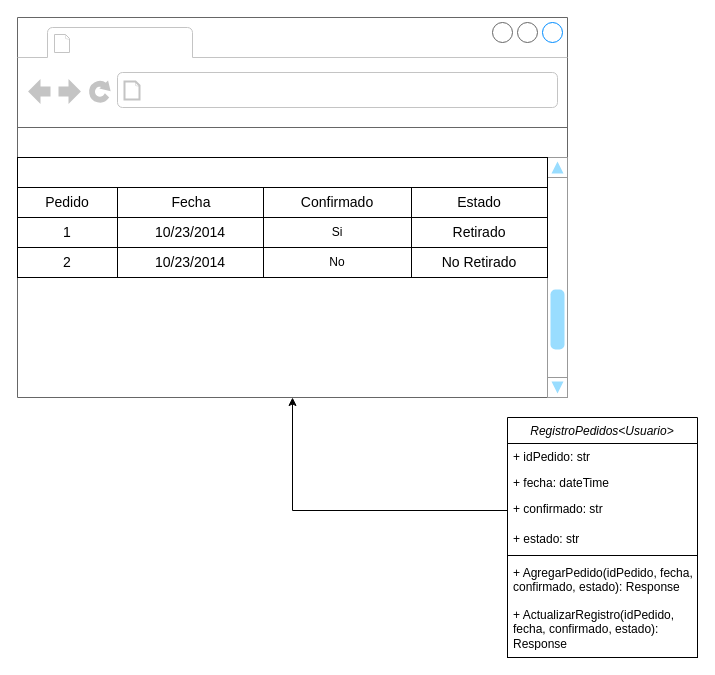
The diagram is 715 pixels wide and 675 high, and some of its shapes have lost their labels. The shapes that lost their labels are listed below. From the top down, each one's centre as x and y in pixels, then its label:
(132,42): Big Bite
(272,90): https://www.draw.io/Retiro Pedidos
(292,142): Pedidos en Local
(282,172): Registro Pedidos
